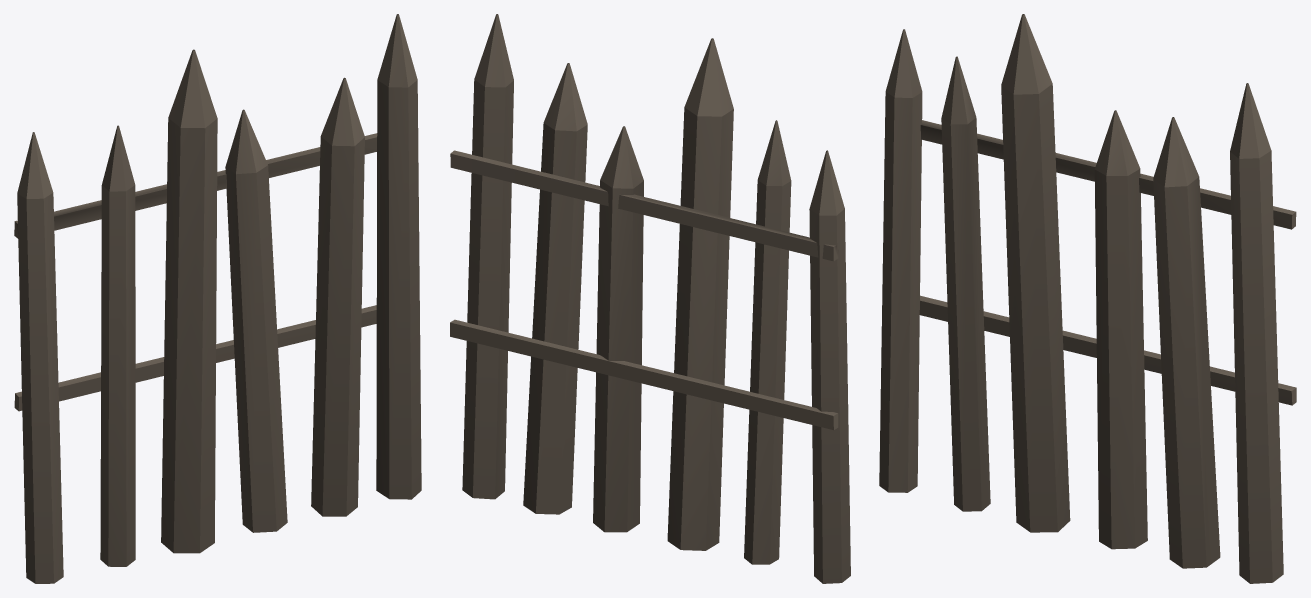
File: obj_estacas.glb
3 views of the same model, side by side, from view 1: azimuth 30°, elevation 25°; view 2: azimuth 150°, elevation 25°; view 3: azimuth 330°, elevation 25° (orthographic). The views are drawn at different scales.
Parts seen in each view (by area): view 1: propforge-cuartos-estacas; view 2: propforge-cuartos-estacas; view 3: propforge-cuartos-estacas.
Boxes of the visible parts, bbox=[...] form: propforge-cuartos-estacas: bbox=[14, 14, 421, 583]; propforge-cuartos-estacas: bbox=[450, 14, 850, 583]; propforge-cuartos-estacas: bbox=[879, 14, 1296, 583].
Bounding box in the file's own units: 1 × 1.24 × 0.1821.
